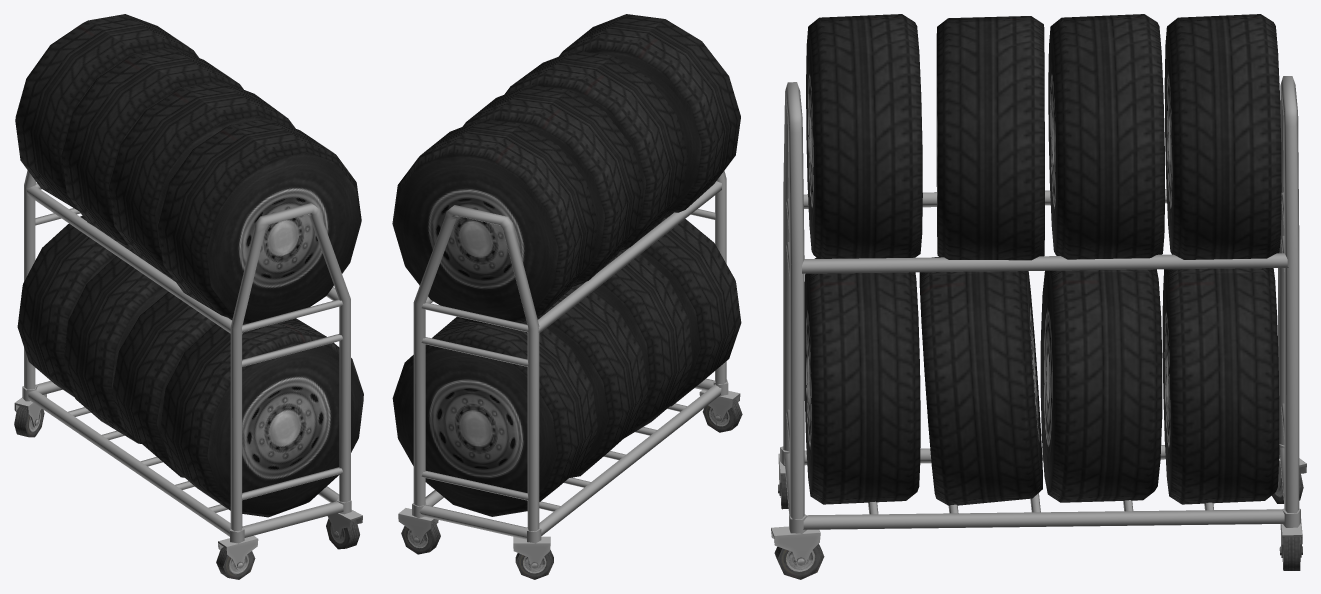
Rendered from Trolley_Tires01.fbx.
3 views of the same model, side by side, from view 1: azimuth 30°, elevation 25°; view 2: azimuth 150°, elevation 25°; view 3: azimuth 270°, elevation 25° (orthographic). The views are drawn at different scales.
Parts seen in each view (by area): view 1: Trolley_Tires01A, Trolley_Tires01B, Tire_warmers_troll, Trolley_Tires01_Wheel_2, Trolley_Tires01_Wheel_4, Trolley_Tires01_Wheel_1; view 2: Trolley_Tires01A, Trolley_Tires01B, Tire_warmers_troll, Trolley_Tires01_Wheel_1, Trolley_Tires01_Wheel_3, Trolley_Tires01_Wheel_2; view 3: Trolley_Tires01A, Trolley_Tires01B, Tire_warmers_troll, Trolley_Tires01_Wheel_4, Trolley_Tires01_Wheel_3.
Part boxes in pixels (bbox=[...]): Trolley_Tires01A: bbox=[15, 14, 361, 324]; Trolley_Tires01B: bbox=[17, 216, 363, 517]; Tire_warmers_troll: bbox=[24, 170, 350, 537]; Trolley_Tires01_Wheel_2: bbox=[216, 528, 258, 579]; Trolley_Tires01_Wheel_4: bbox=[326, 497, 362, 549]; Trolley_Tires01_Wheel_1: bbox=[14, 385, 46, 437]; Trolley_Tires01A: bbox=[392, 14, 740, 327]; Trolley_Tires01B: bbox=[392, 216, 741, 516]; Tire_warmers_troll: bbox=[413, 171, 726, 539]; Trolley_Tires01_Wheel_1: bbox=[513, 527, 553, 579]; Trolley_Tires01_Wheel_3: bbox=[398, 502, 440, 554]; Trolley_Tires01_Wheel_2: bbox=[699, 379, 742, 432]; Trolley_Tires01A: bbox=[806, 14, 1281, 260]; Trolley_Tires01B: bbox=[804, 257, 1279, 505]; Tire_warmers_troll: bbox=[783, 76, 1299, 529]; Trolley_Tires01_Wheel_4: bbox=[771, 514, 824, 579]; Trolley_Tires01_Wheel_3: bbox=[1279, 508, 1302, 570].
Size of the model in its own units: 0.2156 by 0.4754 by 0.4483.
